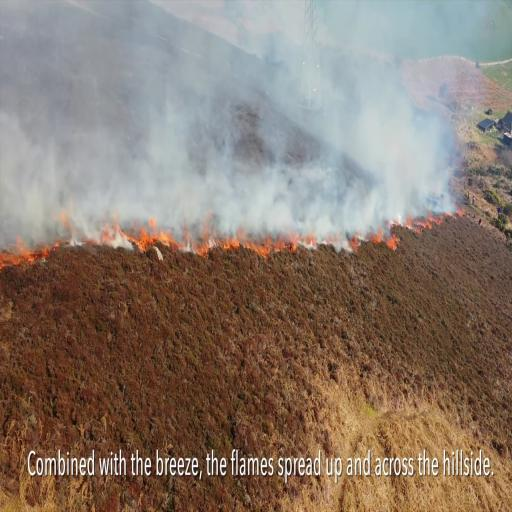fire: (176, 215, 237, 255), (1, 235, 61, 267), (240, 233, 298, 258), (129, 221, 175, 249), (106, 221, 128, 250)
smoke: (1, 1, 459, 213)
